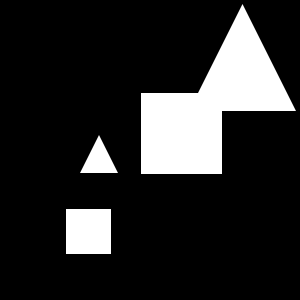circle: (141, 93, 222, 174), (66, 209, 111, 254)
triangle: (189, 4, 296, 111), (80, 135, 118, 173)
